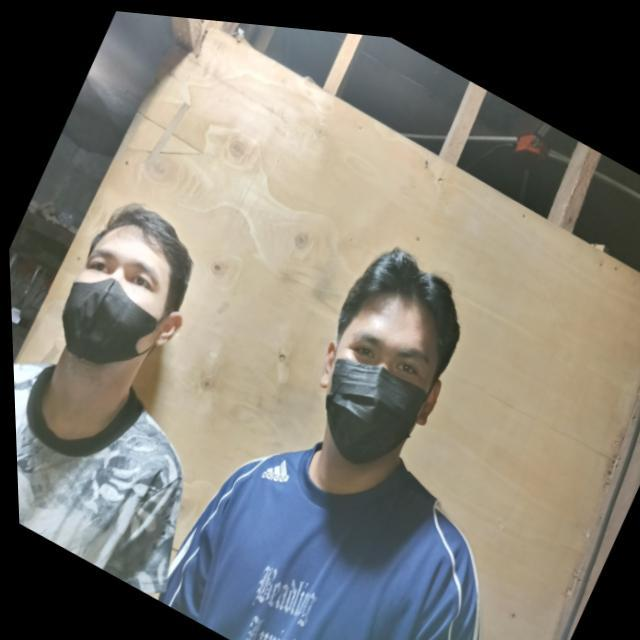Nonhelmet: (316, 245, 463, 466), (55, 192, 197, 376)
